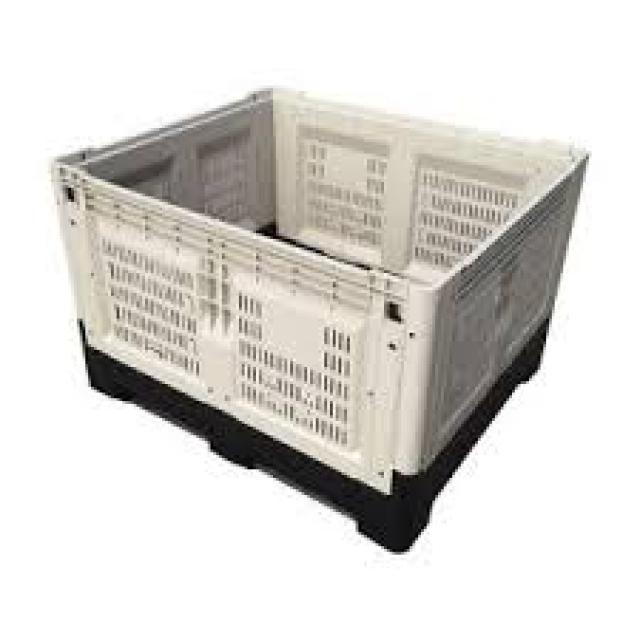basket: (0, 29, 593, 572)
